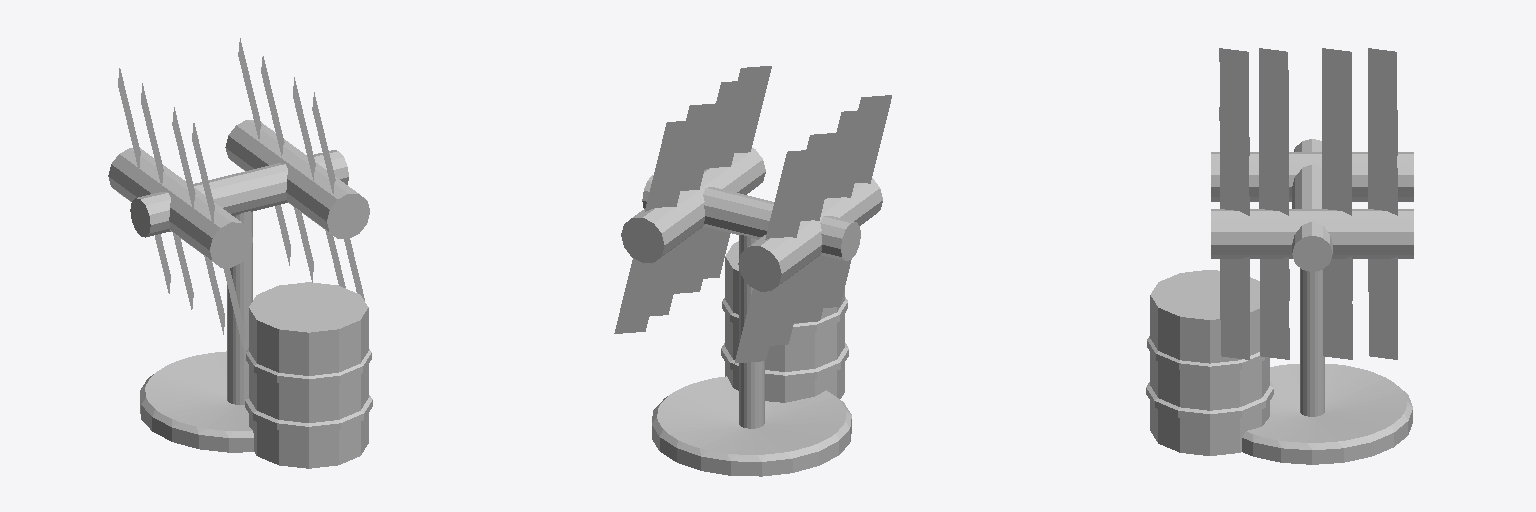
Rendered from fuelStation.obj.
The picture shows the model from 3 angles: view 1: azimuth 30°, elevation 25°; view 2: azimuth 150°, elevation 25°; view 3: azimuth 270°, elevation 25°; orthographic projection.
Visible parts, largest first — view 1: pCylinder8, pCylinder1, pCylinder6, pCylinder3, pCylinder2, pPlane1, pPlane2, pPlane3, pPlane7, pPlane5, pPlane6, pPlane4 (+1 smaller); view 2: pCylinder1, pCylinder8, pCylinder6, pCylinder3, pPlane4, pPlane8, pCylinder2, pPlane2, pPlane6, pPlane3, pPlane7, pPlane1 (+1 smaller); view 3: pCylinder8, pCylinder1, pCylinder6, pPlane6, pPlane7, pPlane5, pPlane8, pCylinder3, pCylinder2, pPlane3, pPlane2, pPlane4 (+1 smaller).
Part boxes in pixels (x1,y1,x2,y2): pCylinder8: (245,282,372,468); pCylinder1: (140,211,253,452); pCylinder6: (225,120,369,238); pCylinder3: (108,148,252,267); pCylinder2: (130,150,348,237); pPlane1: (192,123,244,348); pPlane2: (172,107,224,334); pPlane3: (141,83,193,309); pPlane7: (261,56,313,282); pPlane5: (312,92,364,300); pPlane6: (293,77,345,287); pPlane4: (118,68,170,293); pCylinder1: (652,235,851,476); pCylinder8: (721,241,848,402); pCylinder6: (621,148,765,262); pCylinder3: (738,178,882,291); pPlane4: (734,149,817,363); pPlane8: (614,120,697,333); pCylinder2: (642,175,860,260); pPlane2: (794,109,872,322); pPlane6: (674,80,752,293); pPlane3: (770,132,840,345); pPlane7: (649,103,720,316); pPlane1: (824,95,891,307); pCylinder8: (1146,270,1273,455); pCylinder1: (1242,268,1412,464); pCylinder6: (1211,209,1413,258); pPlane6: (1259,107,1289,359); pPlane7: (1322,107,1352,359); pPlane5: (1219,107,1249,359); pPlane8: (1368,107,1397,359); pCylinder3: (1211,152,1413,201); pCylinder2: (1292,139,1332,271); pPlane3: (1322,48,1352,300); pPlane2: (1259,48,1289,300); pPlane4: (1368,48,1397,155).
Size of the model in its own units: 4.5 by 7.21 by 5.26.